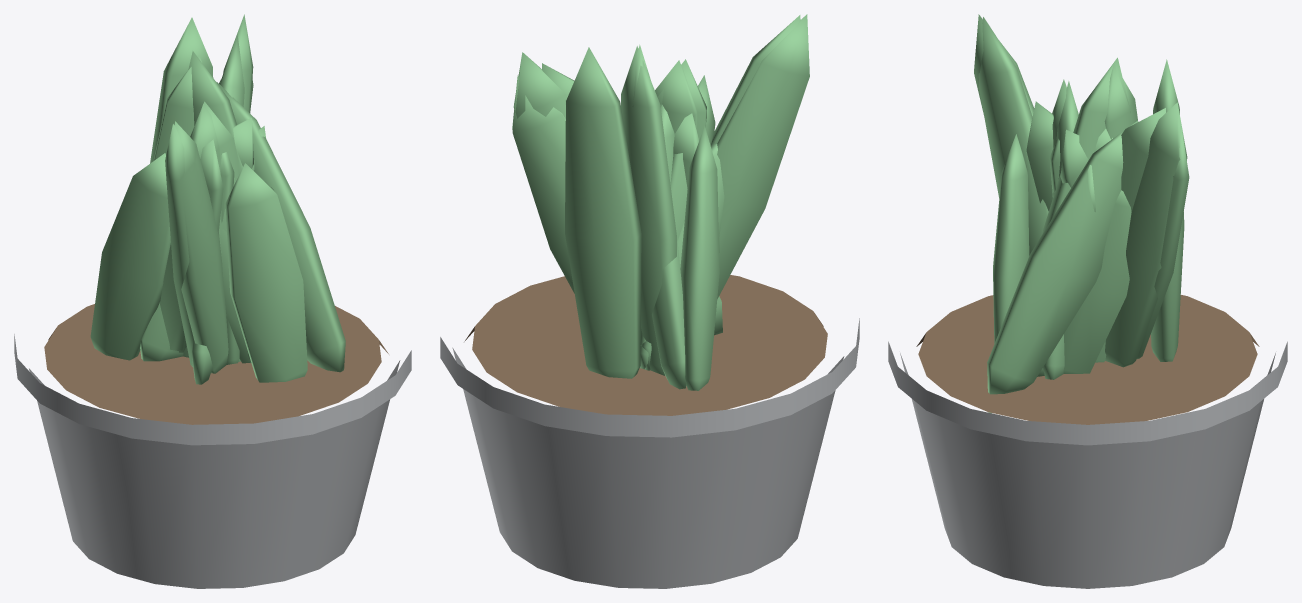
Rendered from plant-erva.glb.
3 renders of one model, left to right at view 1: azimuth 30°, elevation 25°; view 2: azimuth 150°, elevation 25°; view 3: azimuth 270°, elevation 25°, orthographic. The views are drawn at different scales.
Parts seen in each view (by area): view 1: Folhagem, Vaso, Terra; view 2: Folhagem, Vaso, Terra; view 3: Folhagem, Vaso, Terra.
Boxes of the visible parts, left/top/right/bottom form: Folhagem: left=90, top=14, right=345, bottom=384; Vaso: left=14, top=334, right=411, bottom=588; Terra: left=44, top=304, right=388, bottom=424; Folhagem: left=512, top=14, right=809, bottom=390; Vaso: left=440, top=318, right=859, bottom=588; Terra: left=464, top=275, right=827, bottom=415; Folhagem: left=974, top=14, right=1189, bottom=413; Vaso: left=888, top=341, right=1287, bottom=588; Terra: left=916, top=295, right=1259, bottom=424.
Size of the model in its own units: 1.06 by 1.4 by 1.06.
